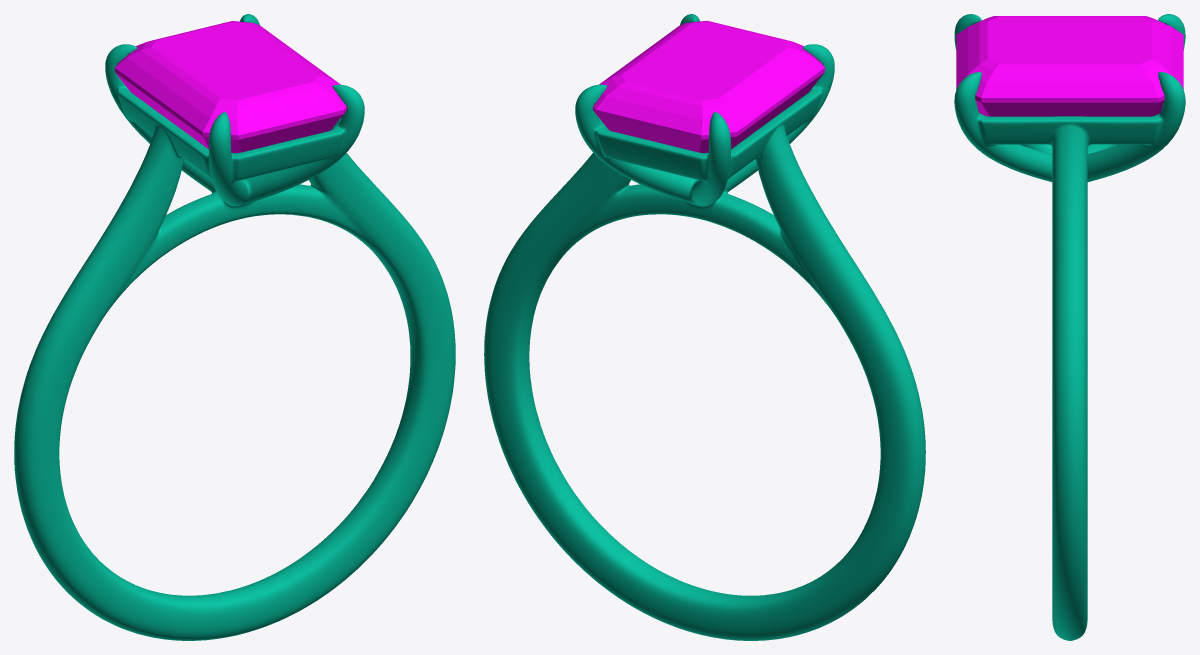
The model's file is BE1776_EM_200ct_RENDER.glb.
3 views of the same model, side by side, from view 1: azimuth 30°, elevation 25°; view 2: azimuth 150°, elevation 25°; view 3: azimuth 270°, elevation 25° (orthographic).
Visible parts, largest first — view 1: Metal 01, CS_Diamond_Emerald; view 2: Metal 01, CS_Diamond_Emerald; view 3: Metal 01, CS_Diamond_Emerald.
Boxes of the visible parts, box(x1,y1,x2,y2) form: Metal 01: box(14, 14, 455, 640); CS_Diamond_Emerald: box(115, 21, 346, 153); Metal 01: box(484, 14, 925, 640); CS_Diamond_Emerald: box(593, 20, 824, 153); Metal 01: box(954, 14, 1185, 640); CS_Diamond_Emerald: box(956, 16, 1183, 116).
Size of the model in its own units: 20.14 by 25.2 by 9.15.
